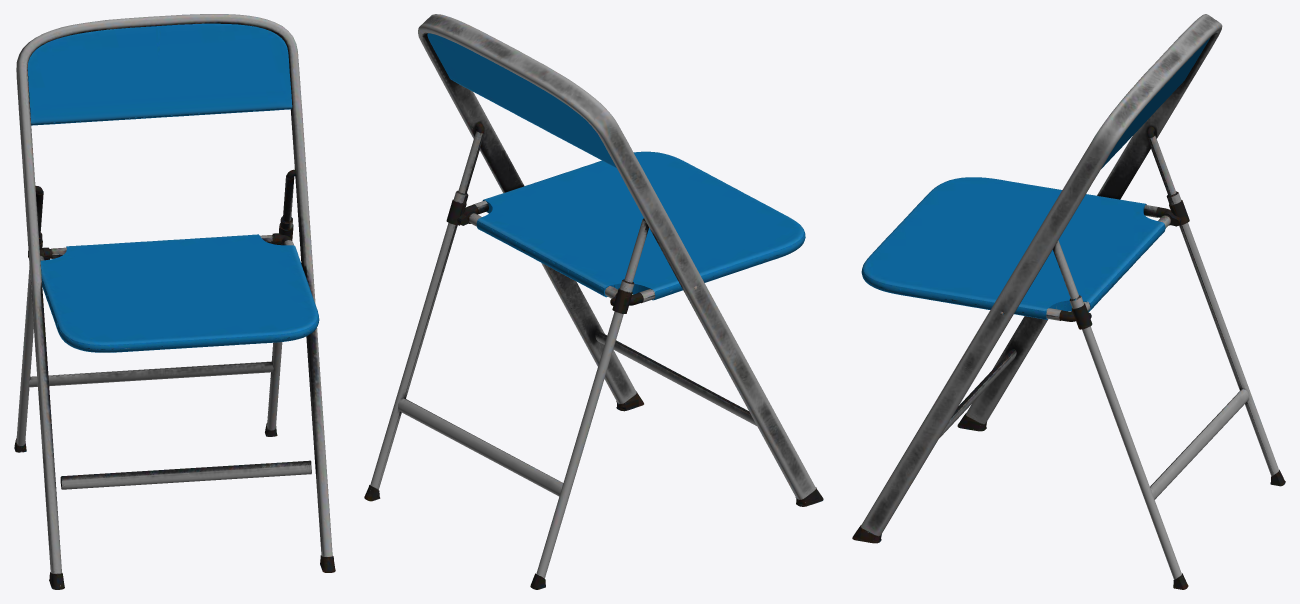
Rendered from chair-transformed.glb.
3 views of the same model, side by side, from view 1: azimuth 30°, elevation 25°; view 2: azimuth 150°, elevation 25°; view 3: azimuth 270°, elevation 25° (orthographic). The views are drawn at different scales.
Visible parts, largest first — view 1: Object_4, Object_3, Object_5, Object_2; view 2: Object_4, Object_3, Object_5, Object_2; view 3: Object_3, Object_4, Object_5, Object_2.
Boxes of the visible parts, x1,y1,x2,y2 form: Object_4: [14, 23, 335, 589]; Object_3: [16, 14, 332, 573]; Object_5: [16, 25, 334, 589]; Object_2: [15, 26, 335, 589]; Object_4: [364, 33, 823, 589]; Object_3: [418, 14, 815, 499]; Object_5: [364, 122, 822, 588]; Object_2: [364, 133, 822, 589]; Object_3: [860, 14, 1222, 536]; Object_4: [853, 37, 1285, 589]; Object_5: [853, 126, 1284, 588]; Object_2: [852, 138, 1285, 589].
Size of the model in its own units: 675 by 888 by 740.
1 material, 1 textured.
